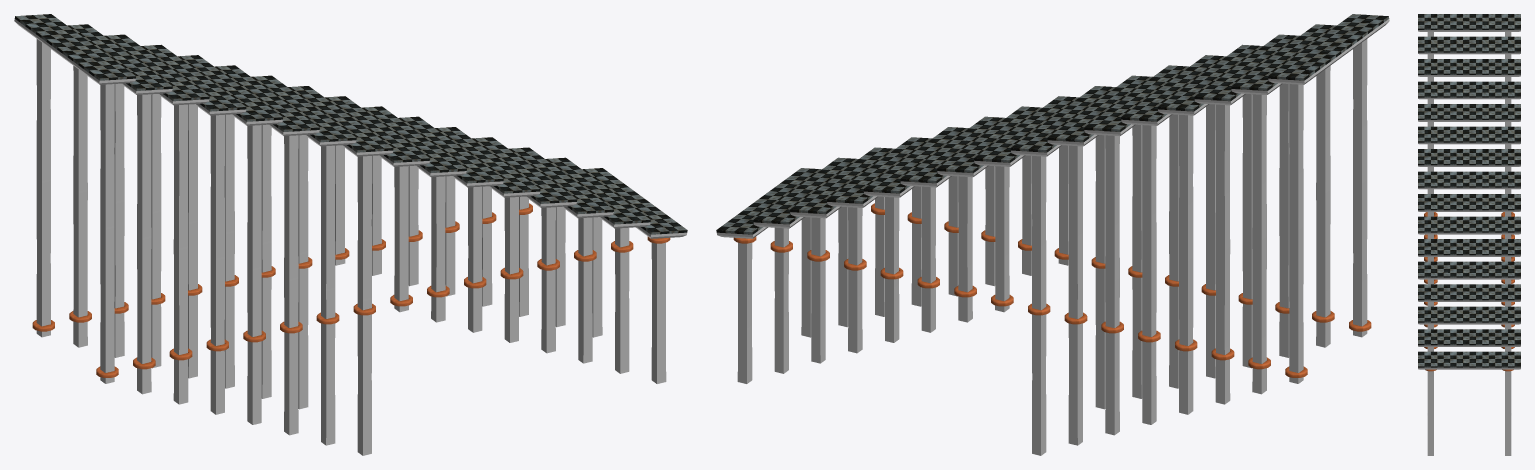
File: StairUpTwo.fbx
3 views of the same model, side by side, from view 1: azimuth 30°, elevation 25°; view 2: azimuth 150°, elevation 25°; view 3: azimuth 270°, elevation 25° (orthographic). The views are drawn at different scales.
Visible parts, largest first — view 1: StairSupportBottom_Clone_; view 2: StairSupportBottom_Clone_; view 3: StairSupportBottom_Clone_.
Part boxes in pixels (bbox=[...]): StairSupportBottom_Clone_: bbox=[14, 14, 687, 455]; StairSupportBottom_Clone_: bbox=[716, 14, 1389, 455]; StairSupportBottom_Clone_: bbox=[1418, 14, 1520, 455].
Size of the model in its own units: 1601 by 1169 by 400.
